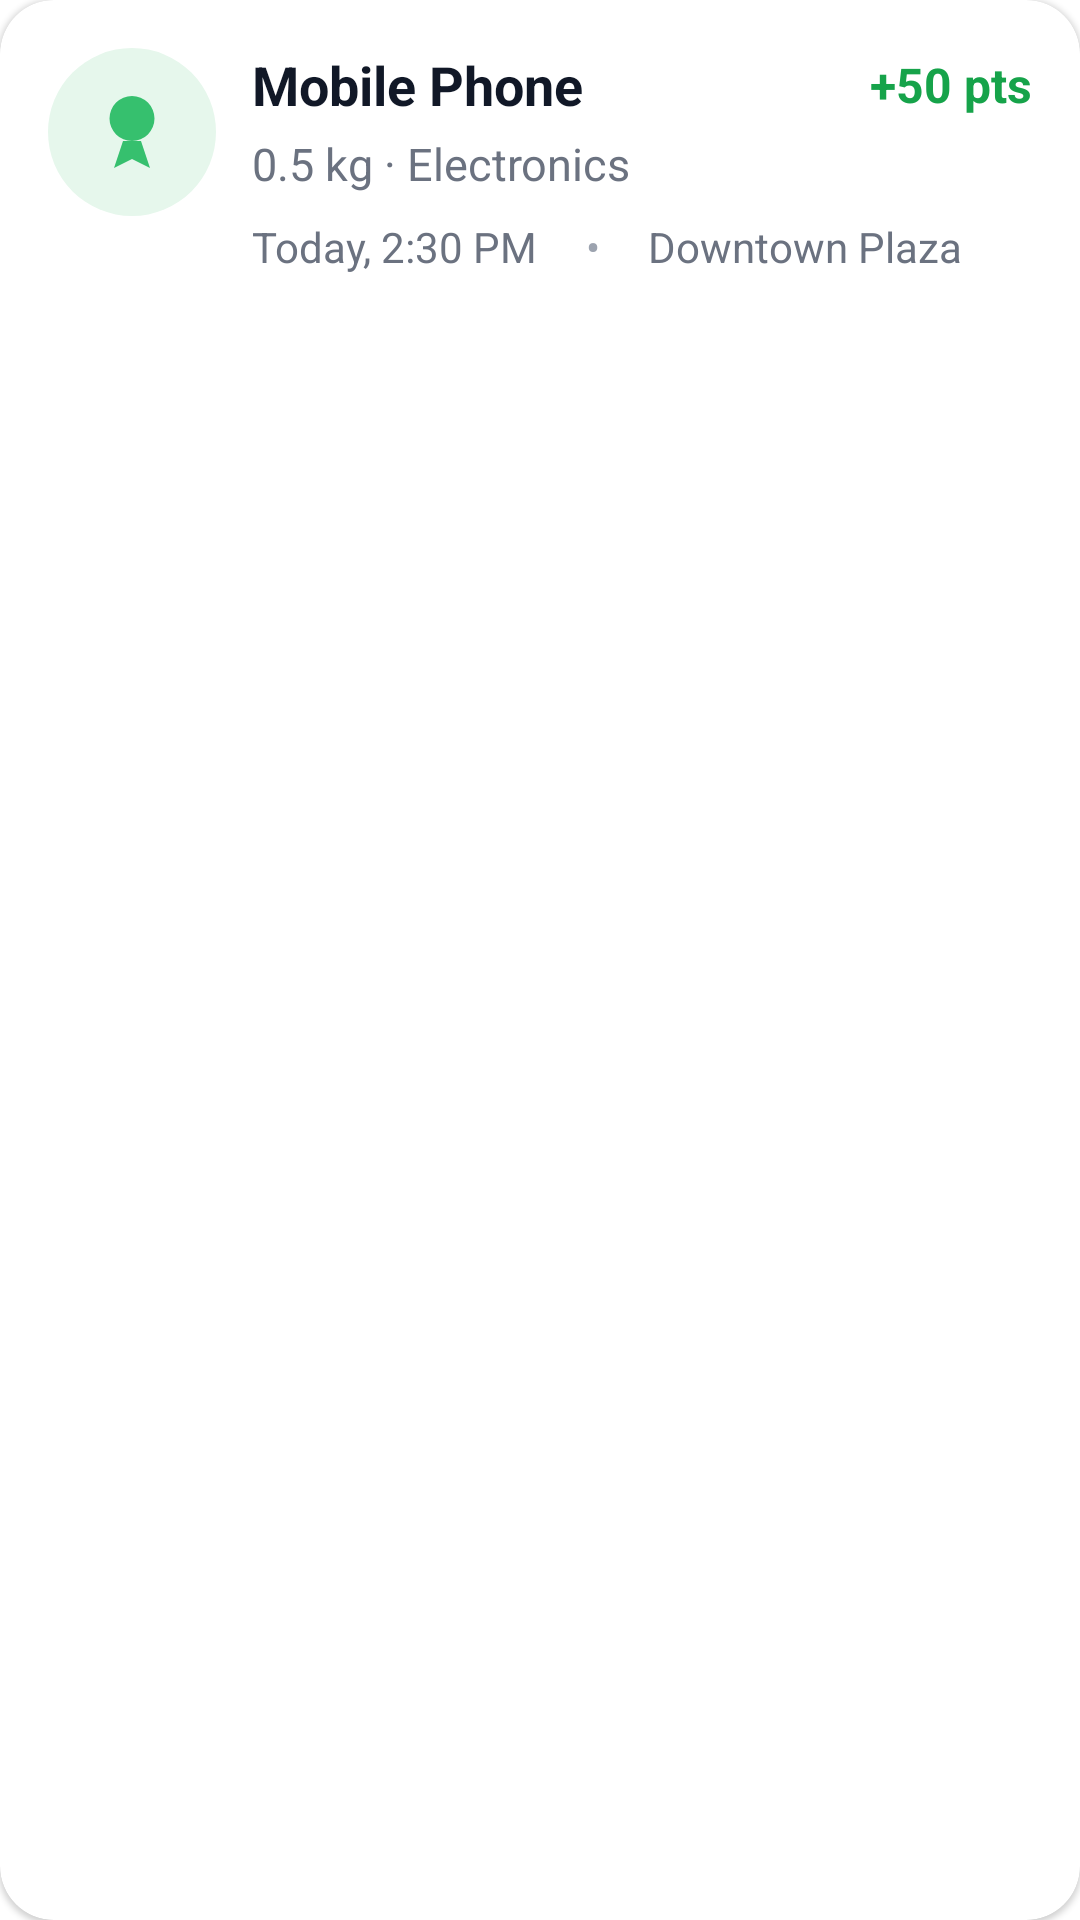

Icons on this 1080 × 1920 Android screen, each with its box as {"left": x1, "top": y1, "right": x2, "bottom": y2}:
medal: {"left": 48, "top": 48, "right": 216, "bottom": 216}
